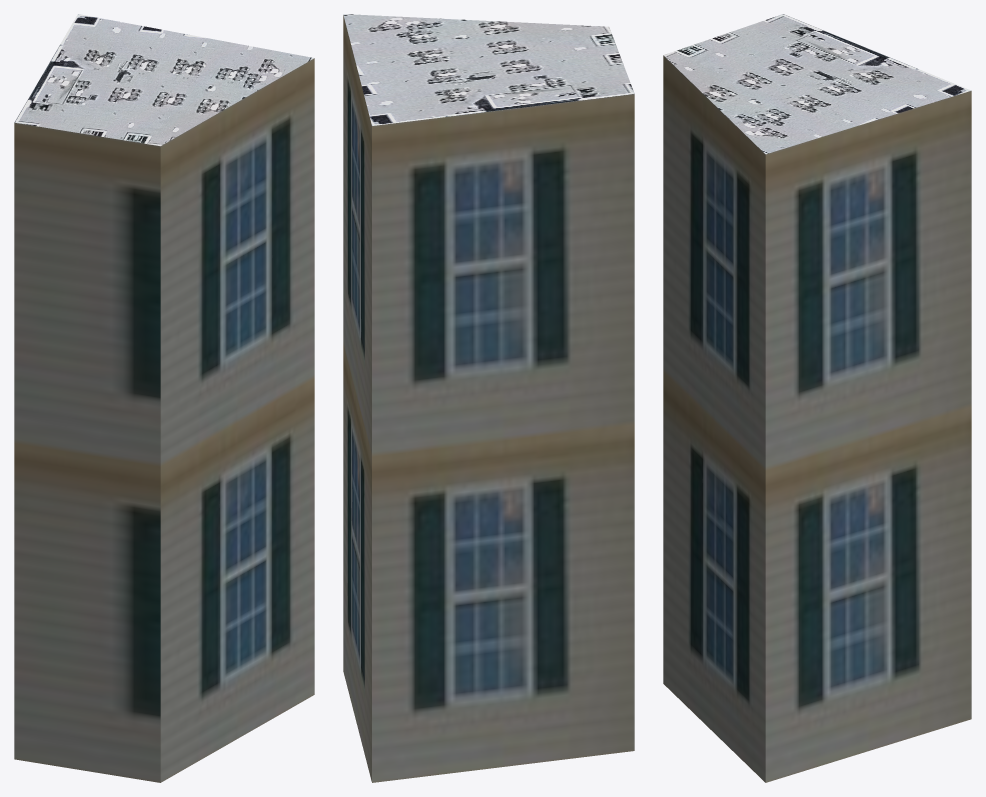
File: ResTex__1274.fbx
3 renders of one model, left to right at view 1: azimuth 30°, elevation 25°; view 2: azimuth 150°, elevation 25°; view 3: azimuth 270°, elevation 25°, orthographic. The views are drawn at different scales.
Visible parts, largest first — view 1: CityEngineMaterial_7_m, CityEngineMaterial_8_m; view 2: CityEngineMaterial_7_m, CityEngineMaterial_8_m; view 3: CityEngineMaterial_7_m, CityEngineMaterial_8_m.
Boxes of the visible parts, x1,y1,x2,y2 form: CityEngineMaterial_7_m: (14, 58, 314, 782); CityEngineMaterial_8_m: (14, 14, 314, 146); CityEngineMaterial_7_m: (343, 15, 634, 782); CityEngineMaterial_8_m: (343, 14, 634, 125); CityEngineMaterial_7_m: (663, 55, 971, 782); CityEngineMaterial_8_m: (663, 14, 971, 154).
Bounding box in the file's own units: 2.87 × 6 × 2.67.
2 materials, 2 textured.
